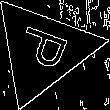P_E: (10, 24, 75, 76)
